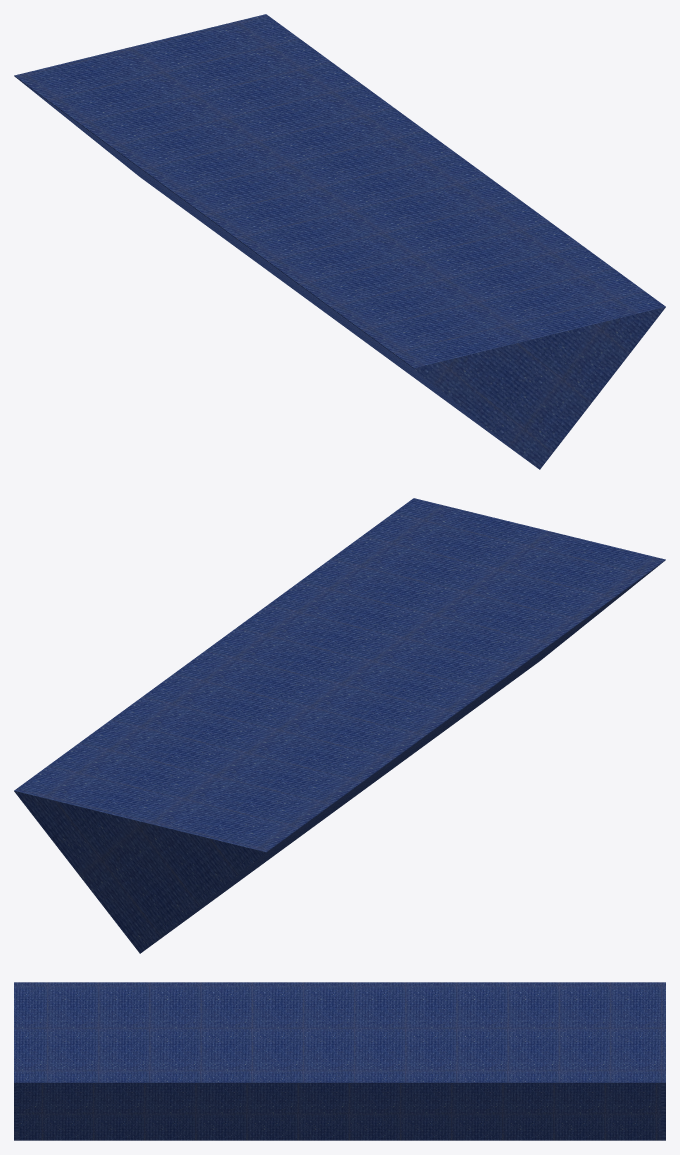
File: BassBoxCorner.glb
3 renders of one model, top to bottom at view 1: azimuth 30°, elevation 25°; view 2: azimuth 150°, elevation 25°; view 3: azimuth 270°, elevation 25°, orthographic. The views are drawn at different scales.
Visible parts, largest first — view 1: BassBoxCorner; view 2: BassBoxCorner; view 3: BassBoxCorner.
Boxes of the visible parts, left/top/right/bottom form: BassBoxCorner: left=14, top=14, right=665, bottom=469; BassBoxCorner: left=14, top=498, right=665, bottom=953; BassBoxCorner: left=14, top=982, right=665, bottom=1140.
Size of the model in its own units: 0.851 by 0.4271 by 2.34.
Materials: 1 (1 with a texture image).
